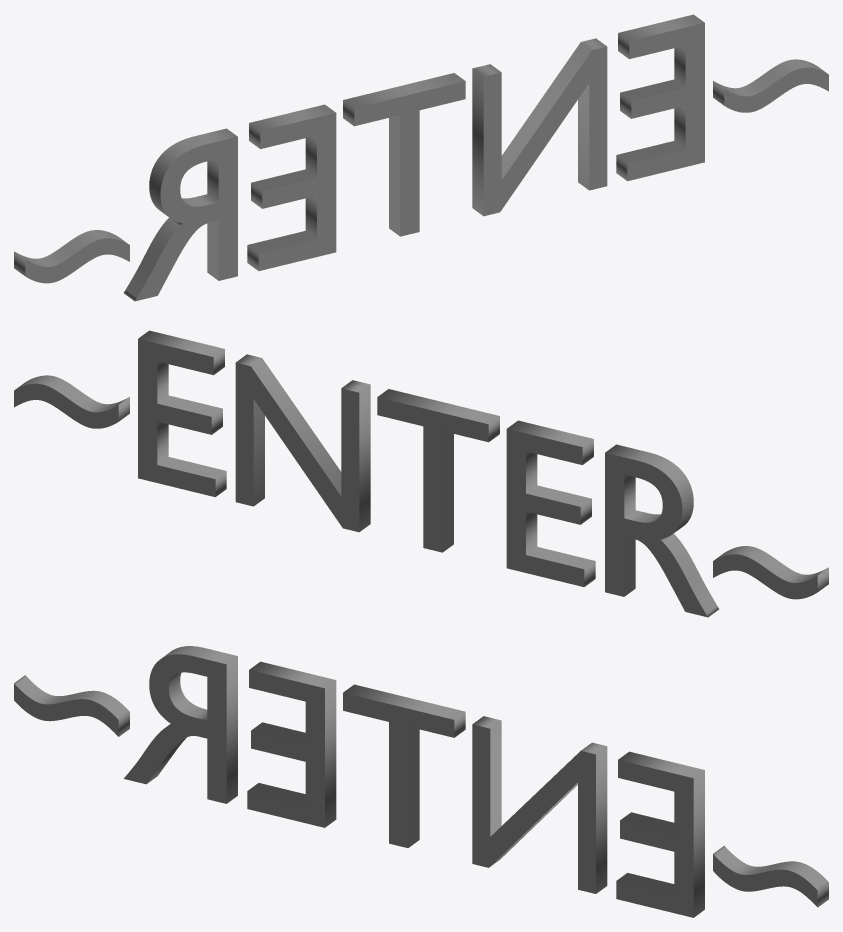
File: enter.obj
3 renders of one model, top to bottom at view 1: azimuth 30°, elevation 25°; view 2: azimuth 150°, elevation 25°; view 3: azimuth 330°, elevation 25°, orthographic.
Visible parts, largest first — view 1: enter; view 2: enter; view 3: enter.
Part boxes in pixels (box(x1,y1,x2,y2)): enter: box(14, 14, 828, 301); enter: box(14, 330, 828, 617); enter: box(14, 646, 828, 917).
Size of the model in its own units: 4.11 by 0.682 by 0.1.
